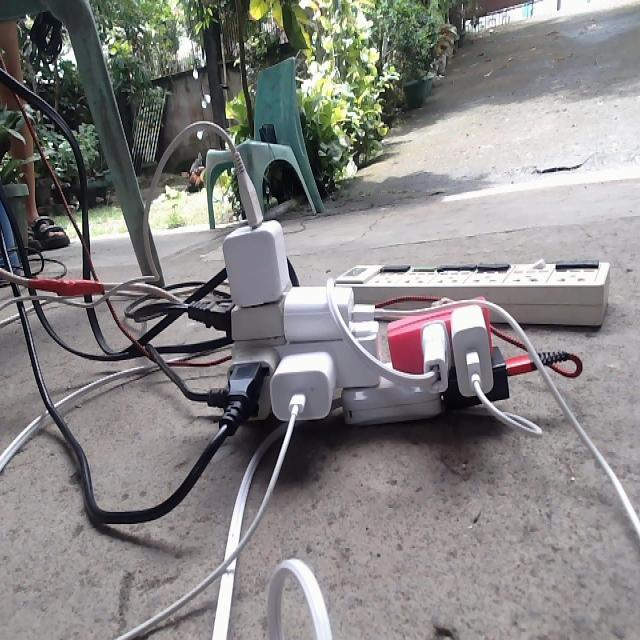-: (190, 193, 524, 428)
